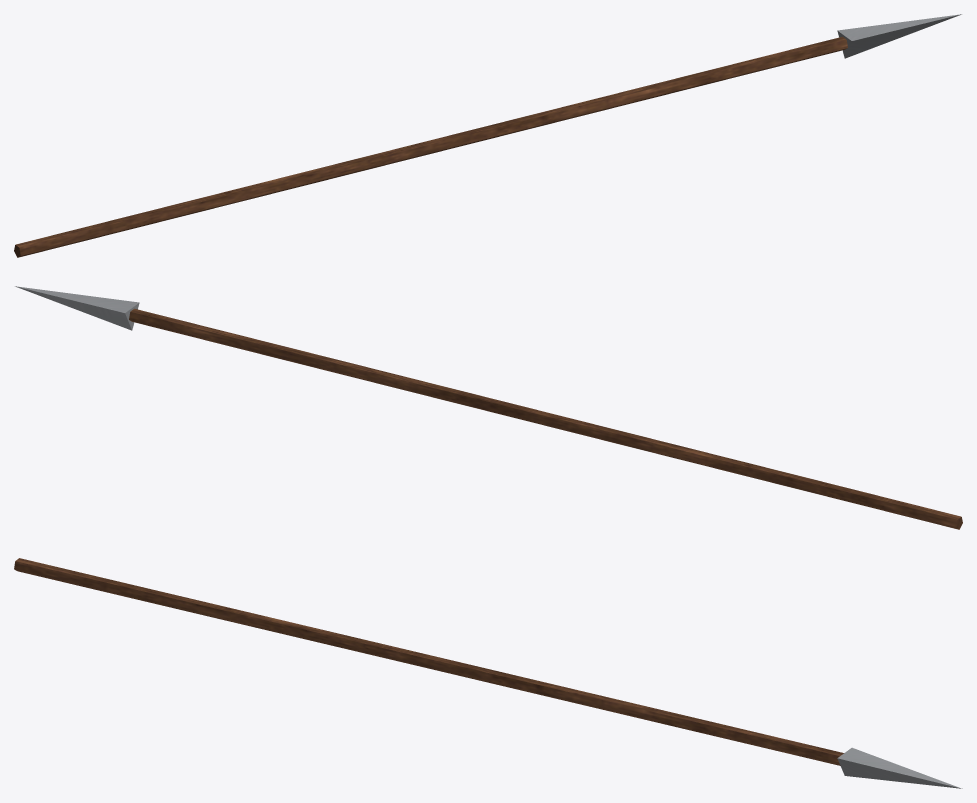
Rendered from Arrow.fbx.
The picture shows the model from 3 angles, top to bottom: view 1: azimuth 30°, elevation 25°; view 2: azimuth 150°, elevation 25°; view 3: azimuth 330°, elevation 25°; orthographic projection.
Visible parts, largest first — view 1: Arrow; view 2: Arrow; view 3: Arrow.
Part boxes in pixels (x1,y1,x2,y2): Arrow: [14, 14, 961, 257]; Arrow: [15, 286, 962, 529]; Arrow: [14, 558, 962, 788].
Size of the model in its own units: 1.08 by 0.0251 by 0.029.
